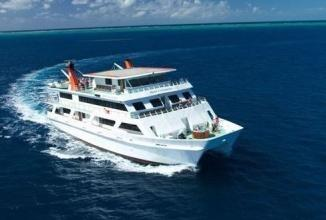yacht: (47, 55, 249, 168)
